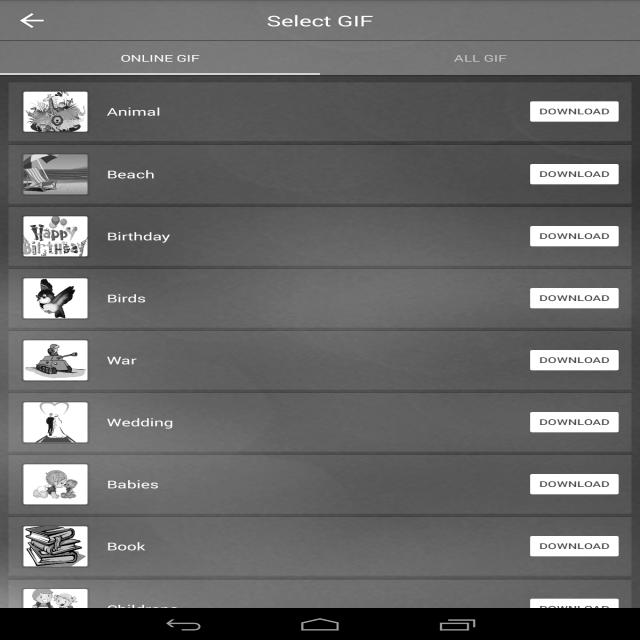ImageButton: (5, 4, 59, 37)
ImageView: (9, 82, 632, 141), (9, 145, 632, 204), (9, 207, 632, 266), (9, 269, 632, 328), (9, 331, 632, 390), (9, 393, 632, 452), (9, 455, 632, 514), (9, 517, 632, 576), (9, 580, 632, 638), (21, 90, 90, 133), (21, 153, 90, 196), (21, 215, 90, 258), (21, 277, 90, 320), (21, 339, 90, 382), (21, 401, 90, 444), (21, 463, 90, 506), (21, 525, 90, 568), (21, 588, 90, 630), (530, 101, 619, 122), (530, 164, 619, 184), (530, 226, 619, 246), (530, 288, 619, 308), (530, 350, 619, 370), (530, 412, 619, 432), (530, 474, 619, 494), (530, 536, 619, 556), (530, 599, 619, 619), (0, 73, 320, 75), (320, 73, 640, 75)
TextView: (0, 41, 320, 75), (320, 41, 640, 75), (107, 104, 530, 119), (107, 167, 530, 181), (107, 229, 530, 243), (107, 291, 530, 305), (107, 353, 530, 367), (107, 415, 530, 429), (107, 477, 530, 491), (107, 539, 530, 553), (107, 602, 530, 616), (267, 11, 373, 30)
